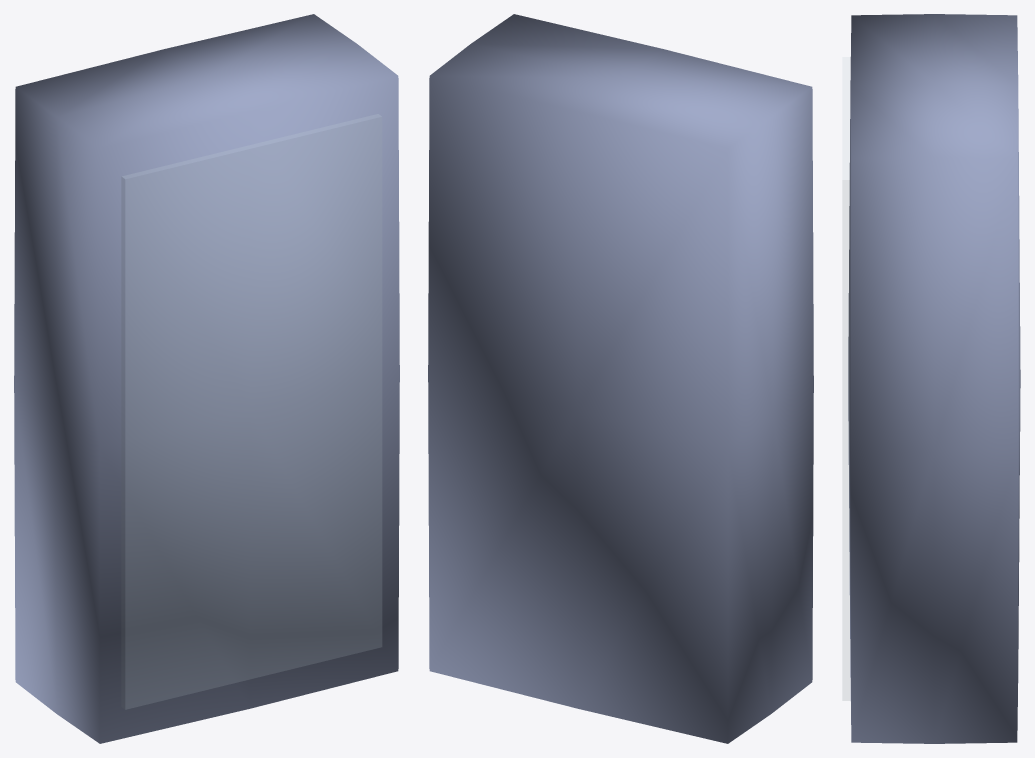
File: glass_cabinet.glb
3 views of the same model, side by side, from view 1: azimuth 30°, elevation 25°; view 2: azimuth 150°, elevation 25°; view 3: azimuth 270°, elevation 25° (orthographic).
Parts seen in each view (by area): view 1: root; view 2: root; view 3: root.
Part boxes in pixels (box(x1,y1,x2,y2)): root: box(14, 14, 399, 743); root: box(428, 14, 813, 743); root: box(843, 14, 1020, 743).
Bounding box in the file's own units: 0.9 × 1.7 × 0.465.
